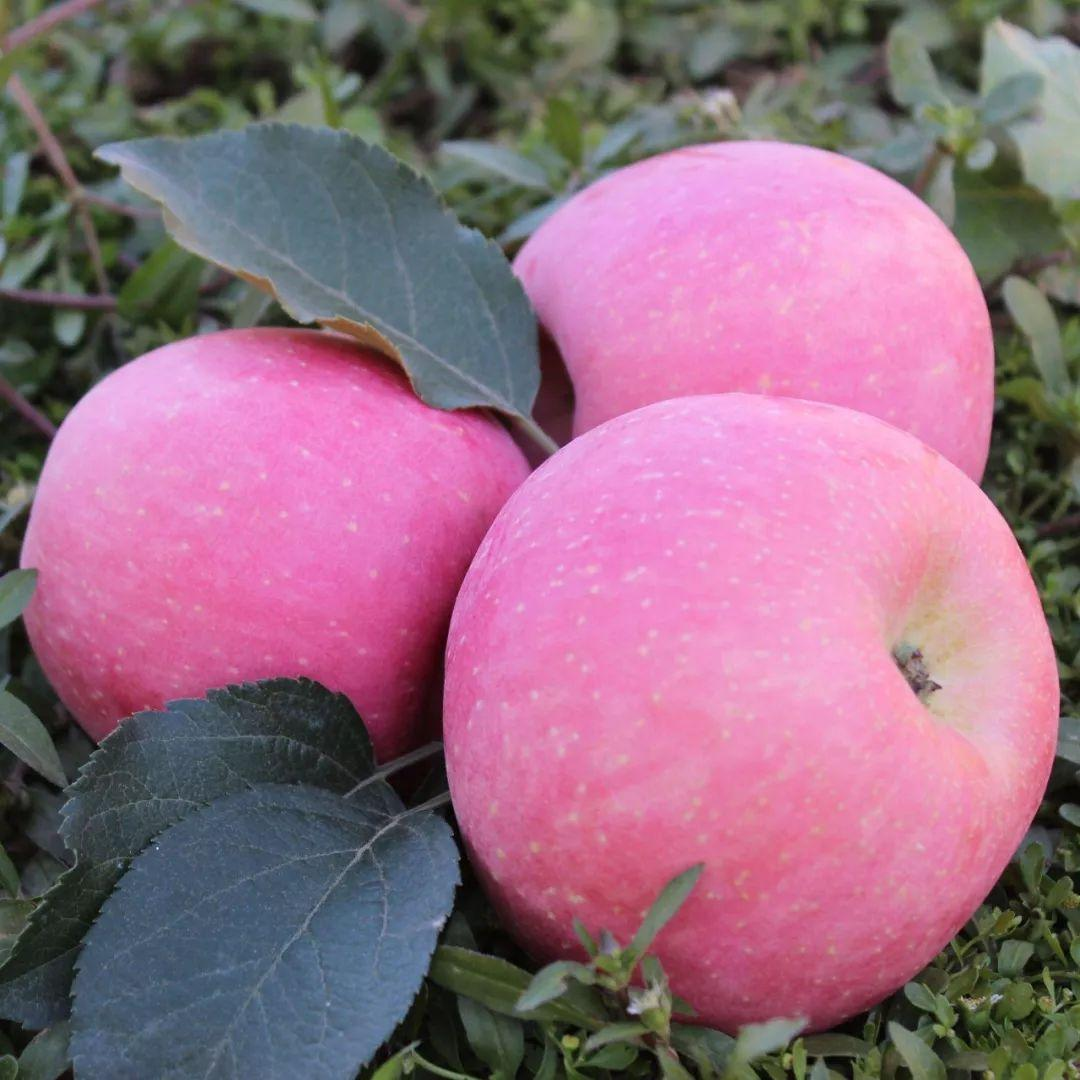apple: (424, 411, 1049, 1047), (22, 328, 539, 772), (508, 136, 996, 464)
